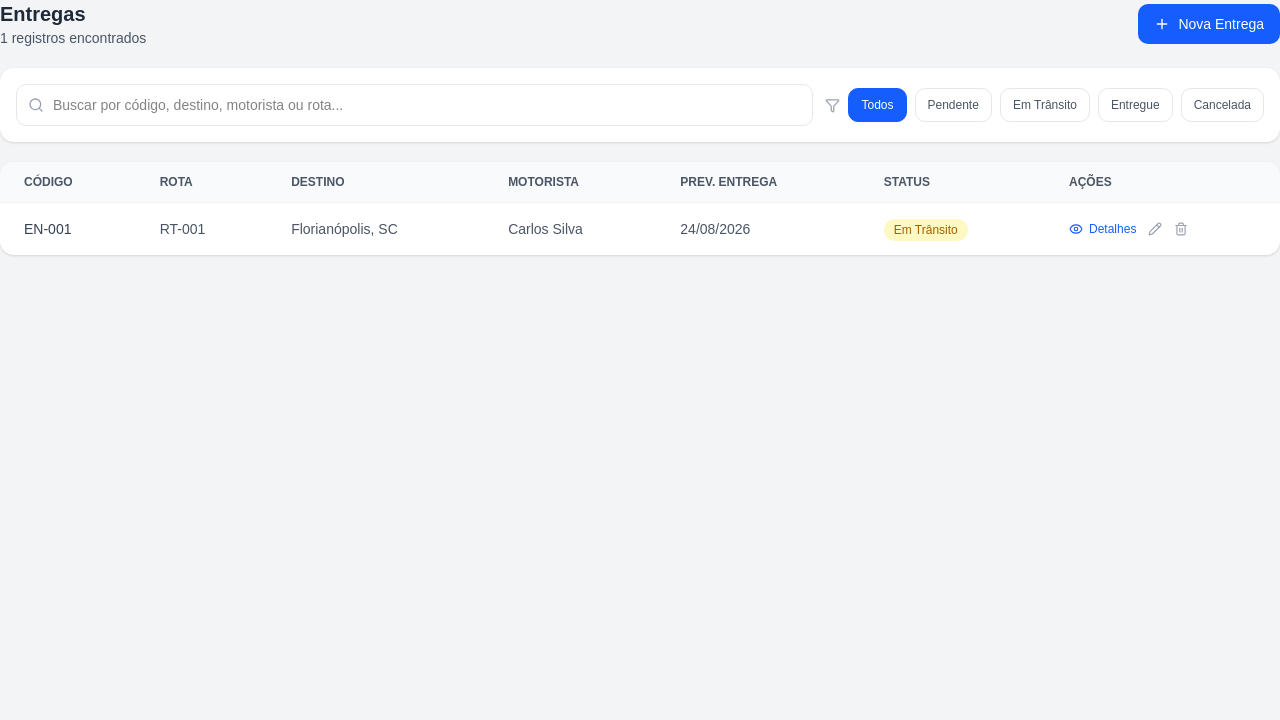
Test: Entregas › edita uma entrega existente com sucesso
The width and height of the screenshot is (1280, 720).
Expected: the text "EN-001" is shown, [0,202,136,255]
Click the button named "Editar EN-001". click: (1155, 229)
box: [1148,222,1162,236]
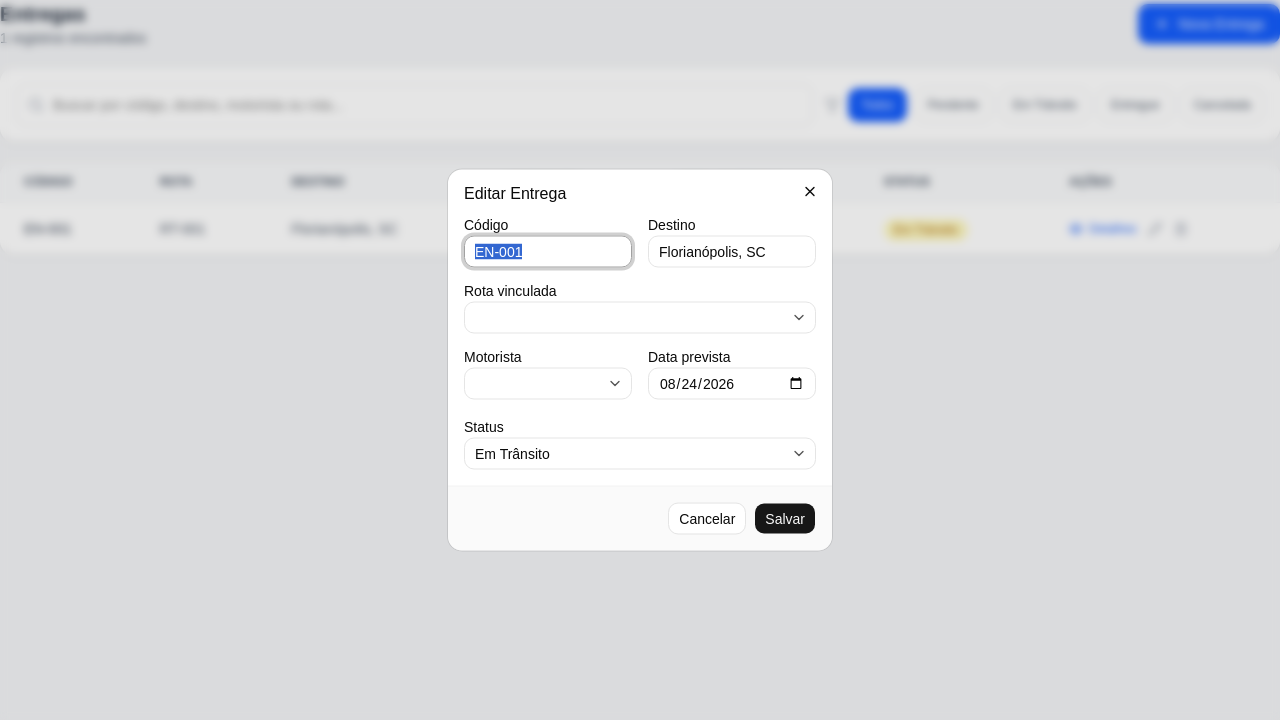
Result: the dialog "Editar Entrega" is shown at [448,170,832,550]
Type "Blumenau, SC" into the field showing "Florianópolis, SC". click: (732, 252)
box: [648,236,816,268]
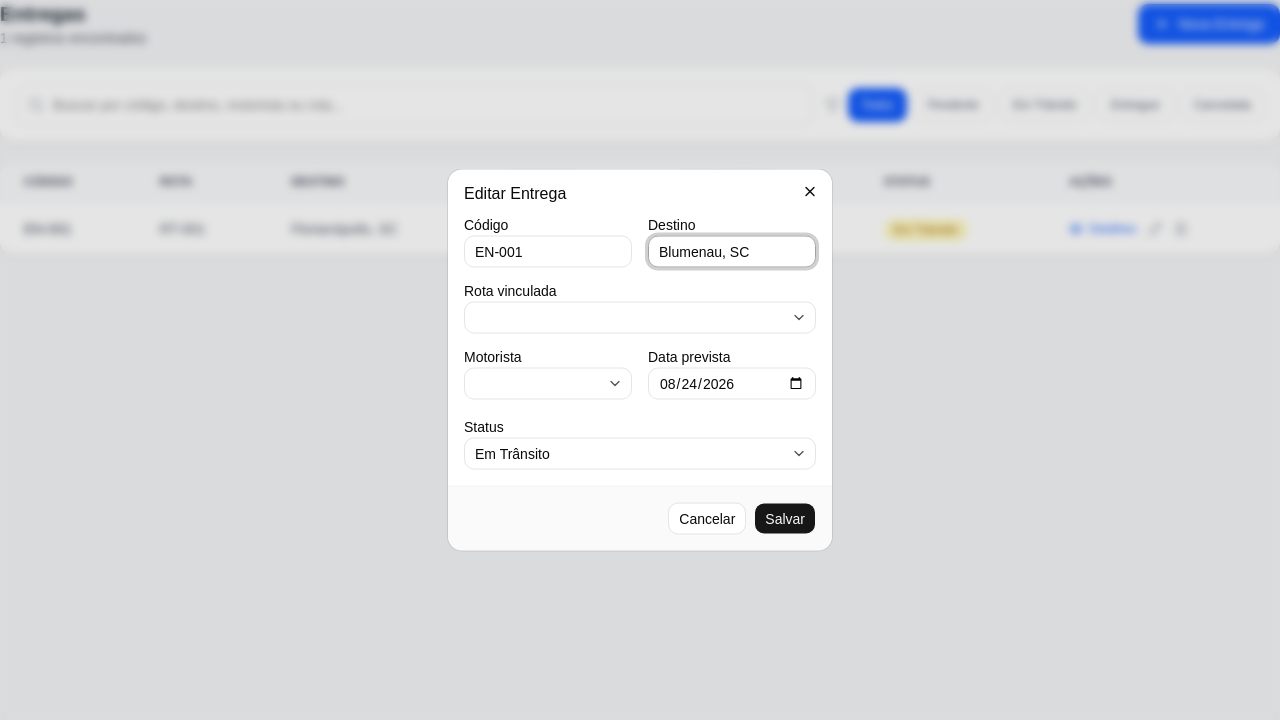
Click the button "Salvar". click: (785, 518)
box: [754,502,816,534]
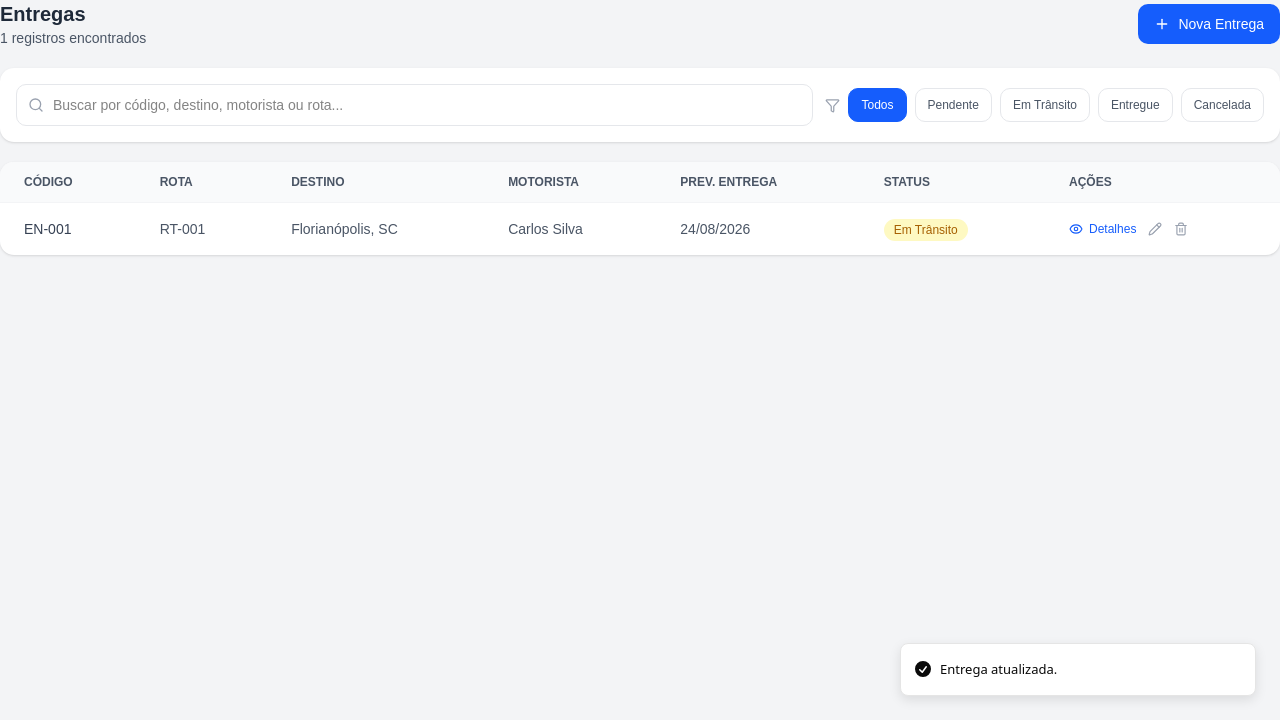
Result: the text "Entrega atualizada." is shown at [940,660,1057,679]
